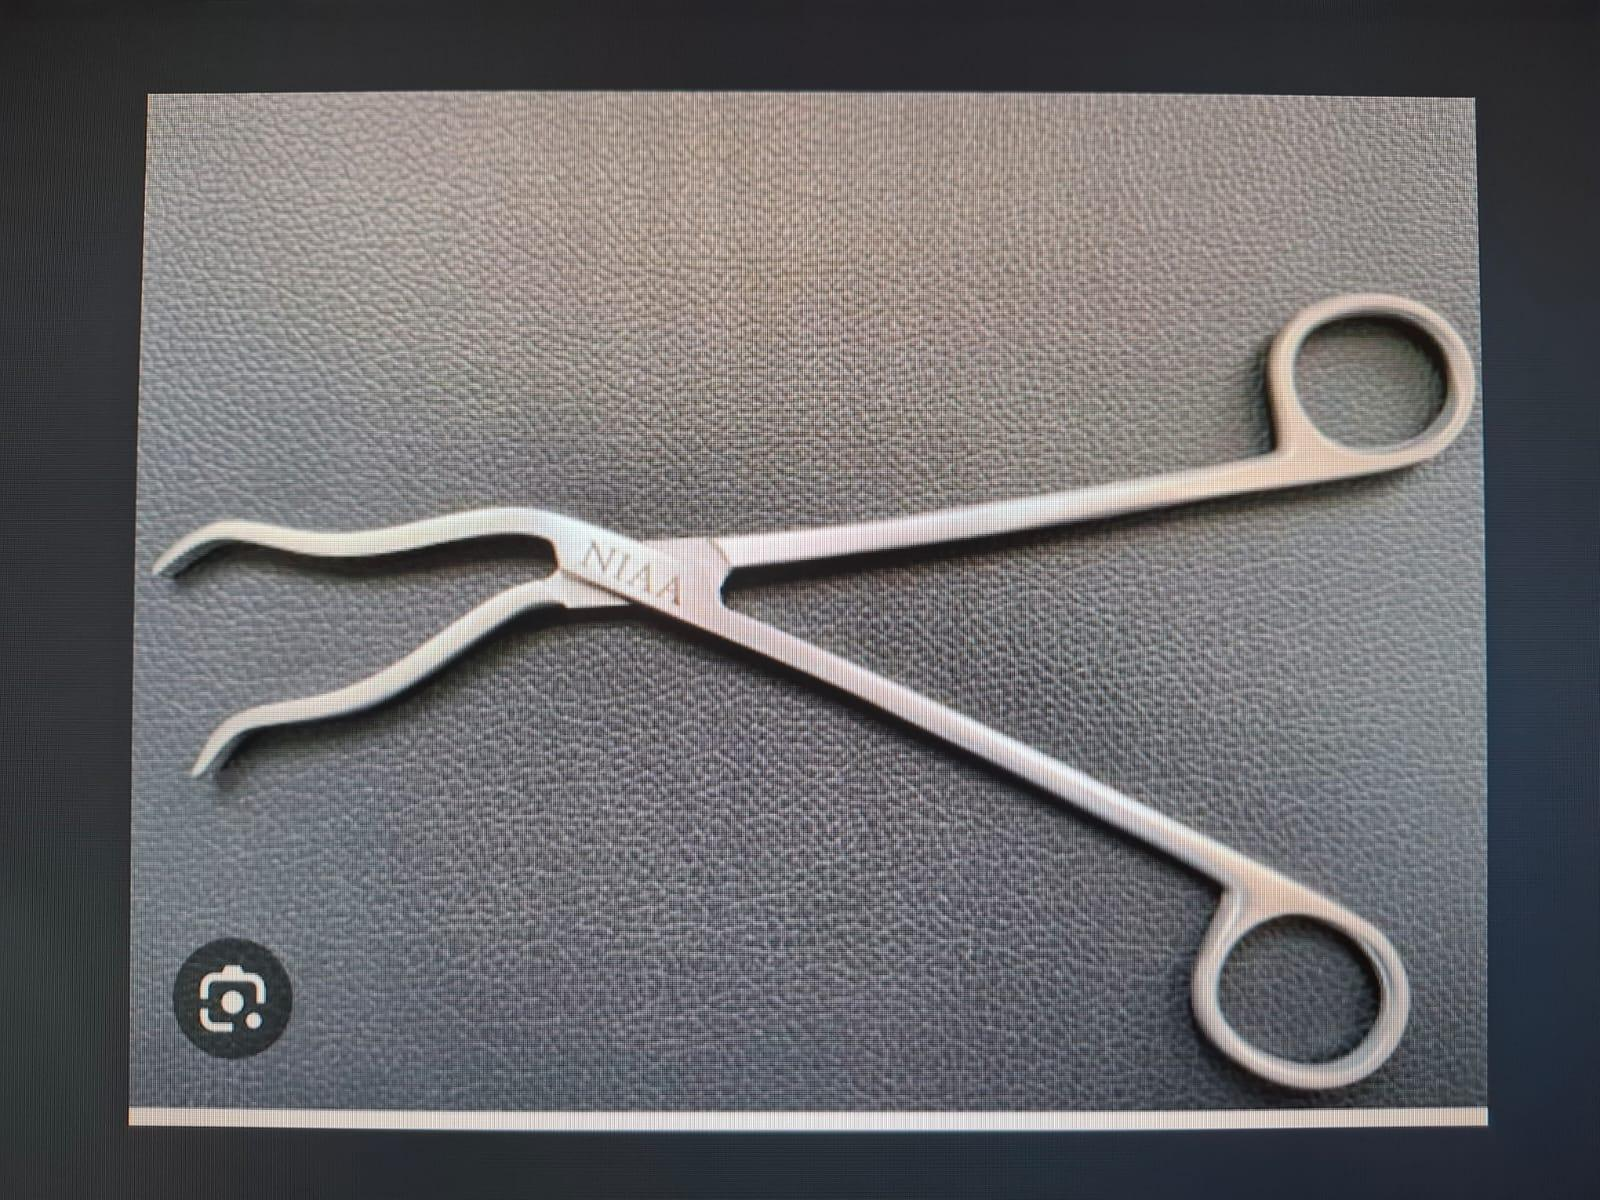Cheatle Forceps: (144, 276, 1478, 1098)
